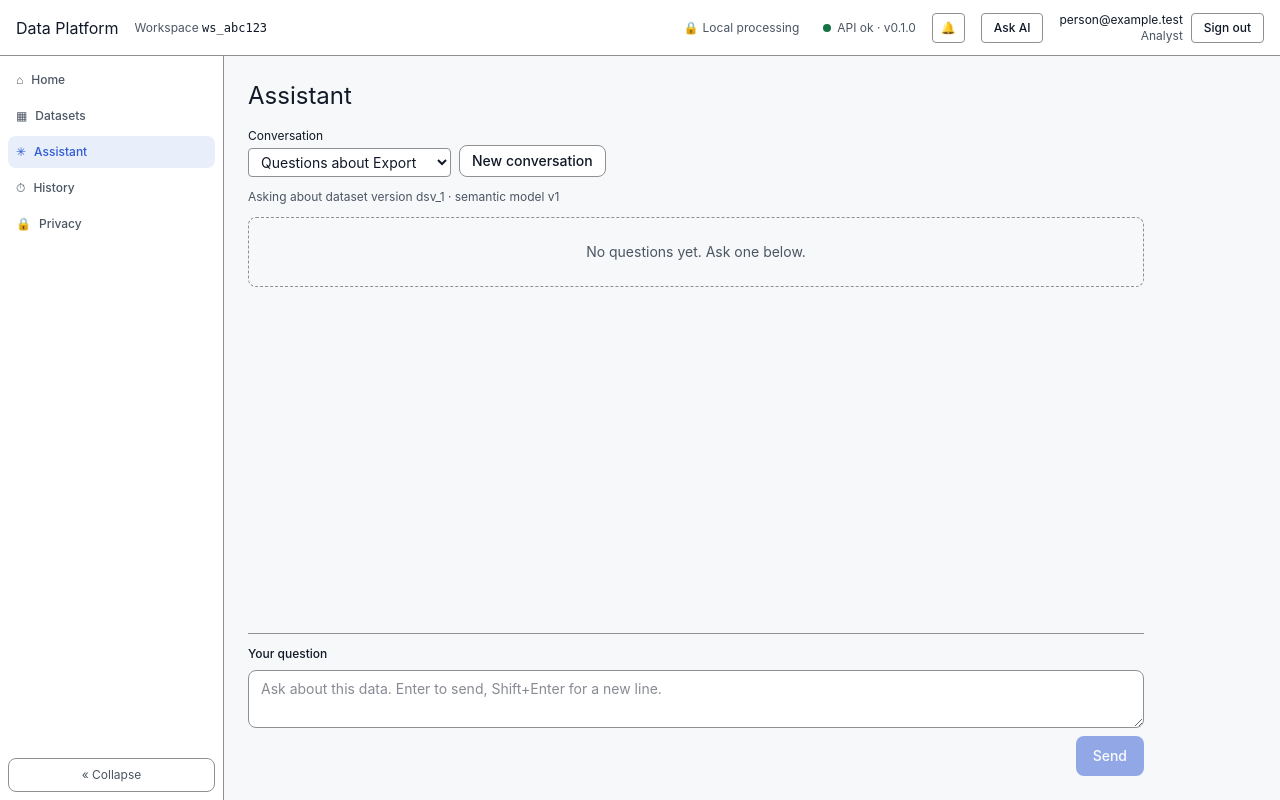
Test: AI chat › says when the answer was written from the analysis results
Type "How did it change?" into the text box labelled "Your question" at (696,699), box x1=248 y1=670 x2=1144 y2=728
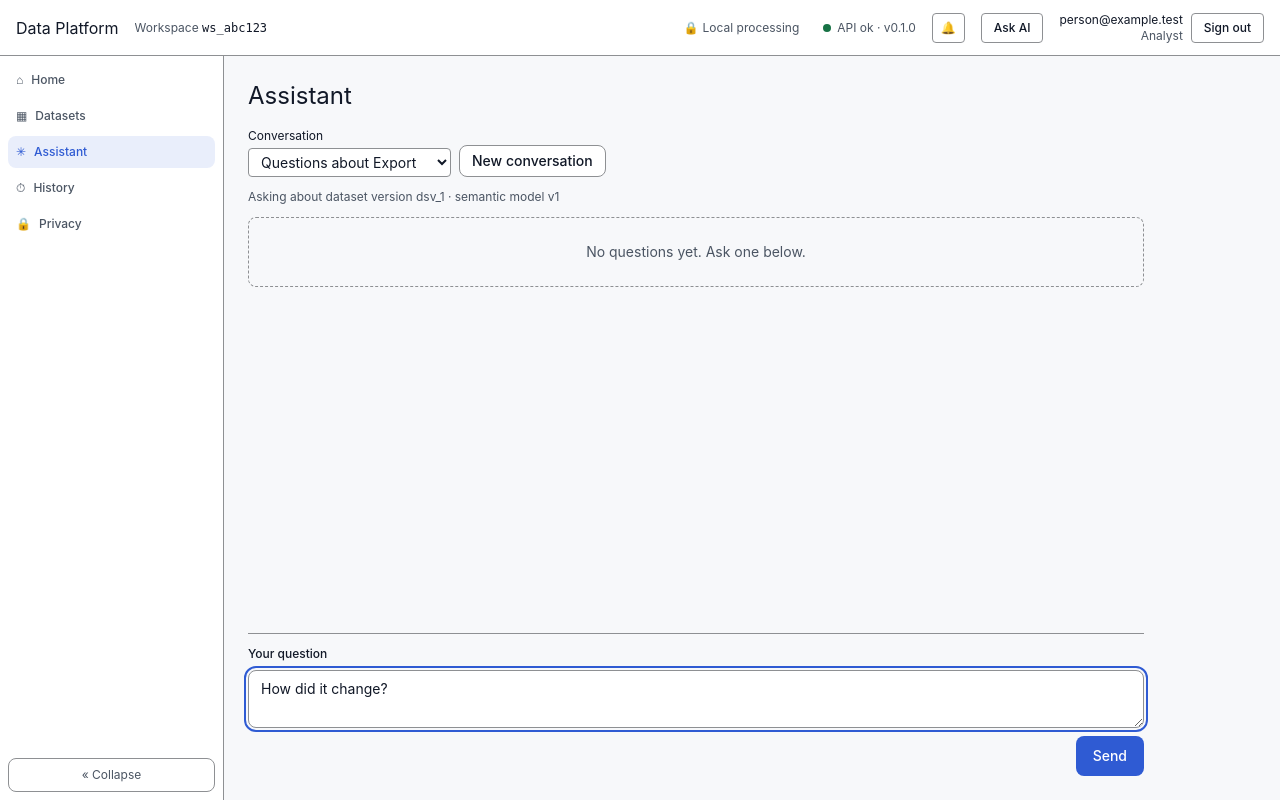
Click the button "Send" at (1110,756), box x1=1076 y1=736 x2=1144 y2=776
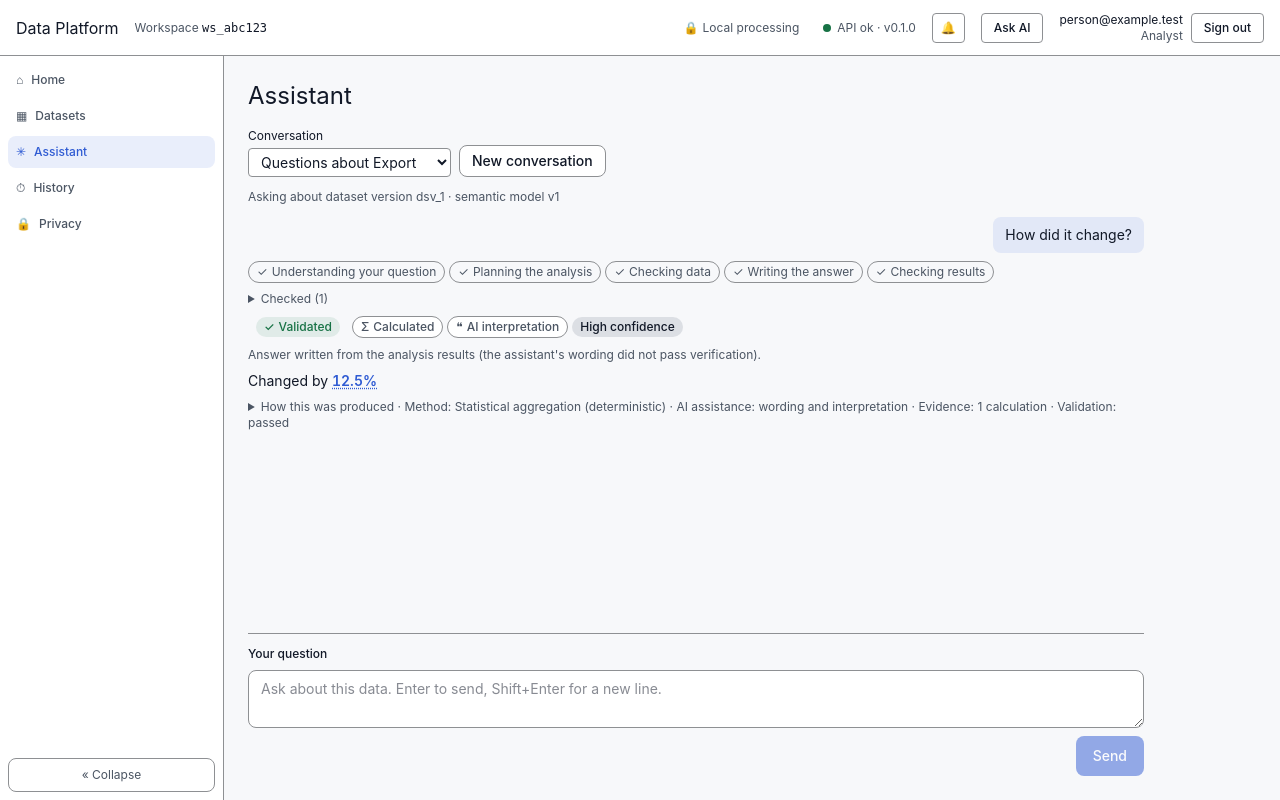
Expected: the text "Answer written from the analysis results (the assistant's wording did not pass verification)." is shown, x1=248 y1=347 x2=761 y2=362
Expected: the button named "Evidence for 12.5%" is shown, x1=332 y1=371 x2=377 y2=391
